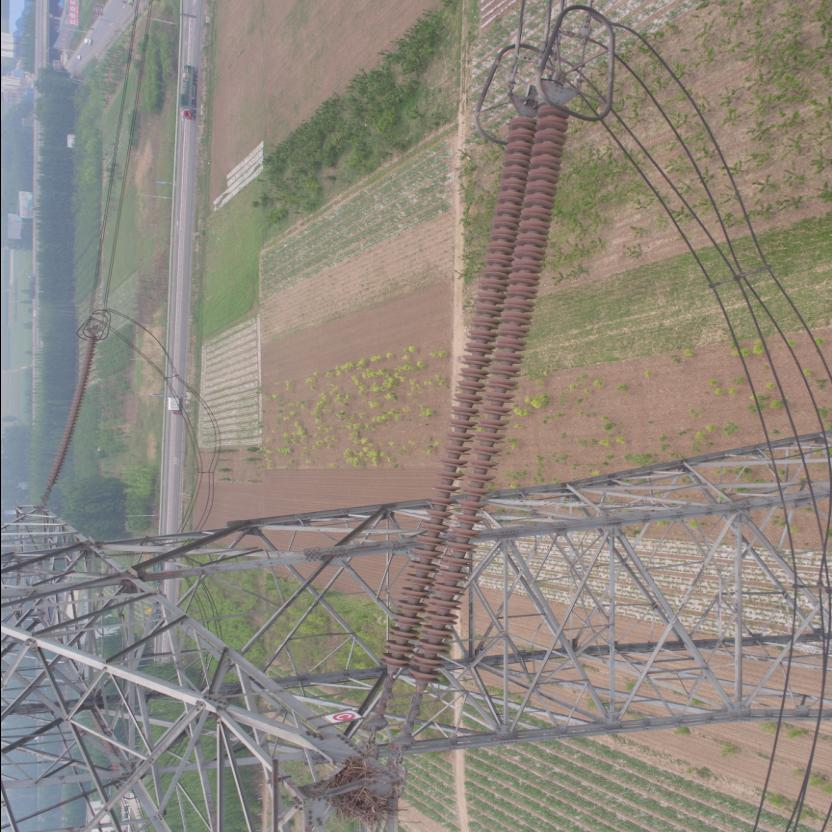insulator: (374, 95, 572, 715), (44, 332, 98, 492)
